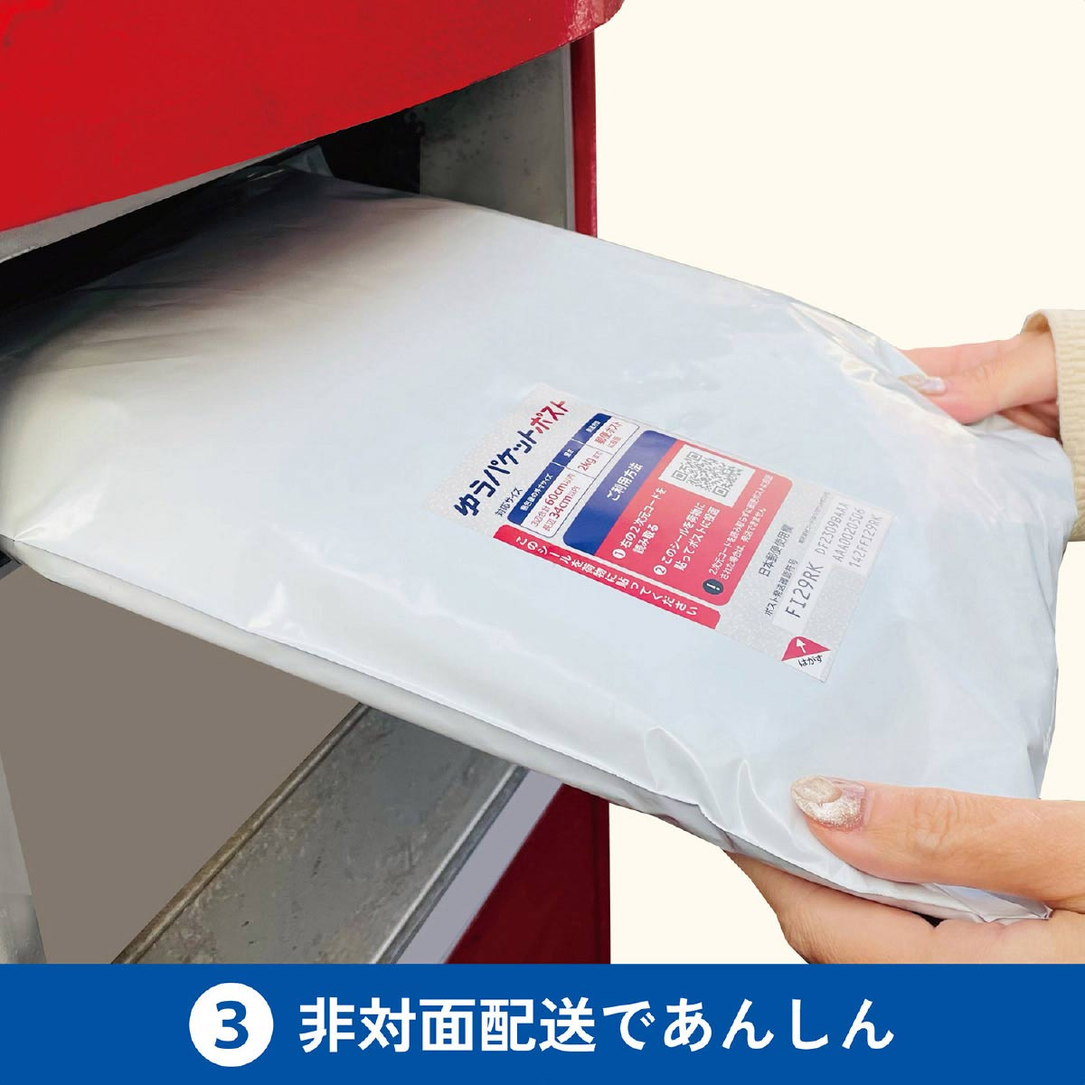塑料袋: (0, 171, 1075, 920)
